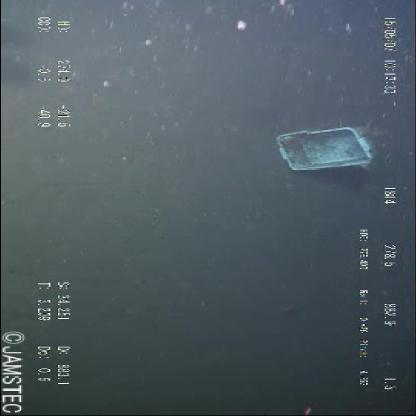Rác: (259, 115, 393, 176)
